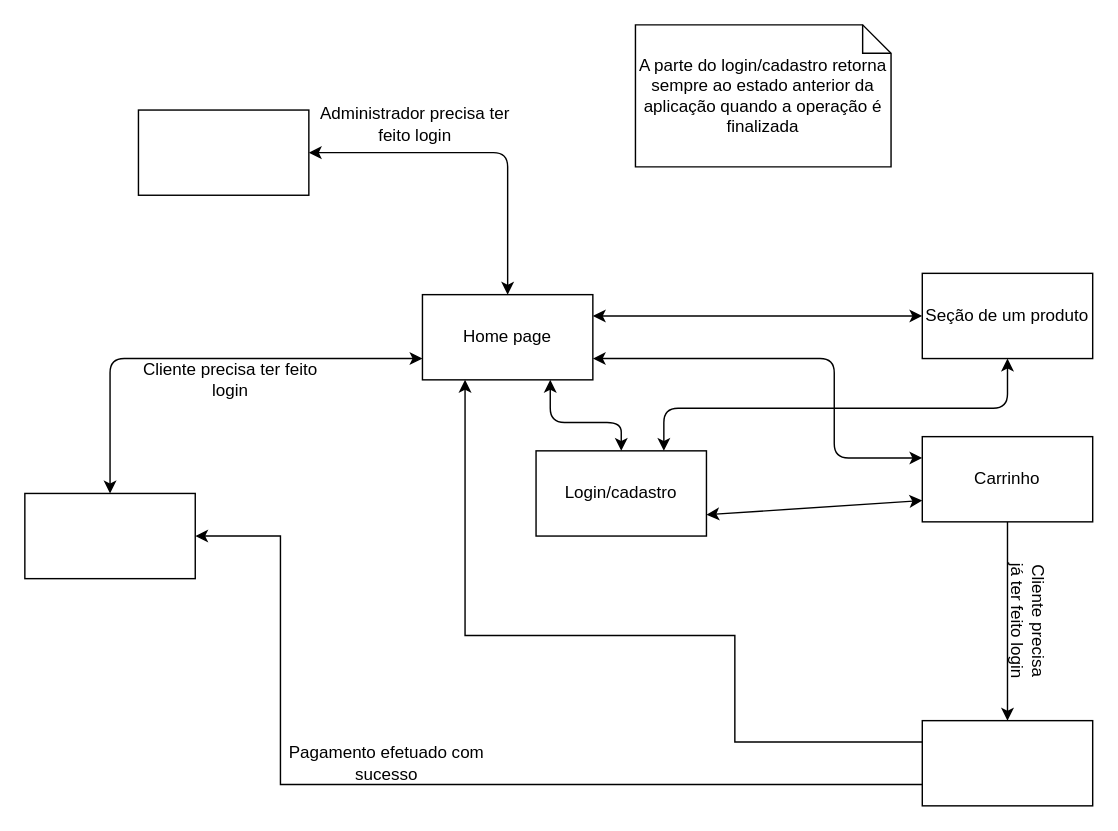
Some shapes in this 1118 by 831 pixel diagram are drawn without their labels. Each missing label, with the centre of its shape:
Espaço do administrador: pixel 223 152
Espaço do usuário: pixel 109 535
Pagamento: pixel 1007 762
